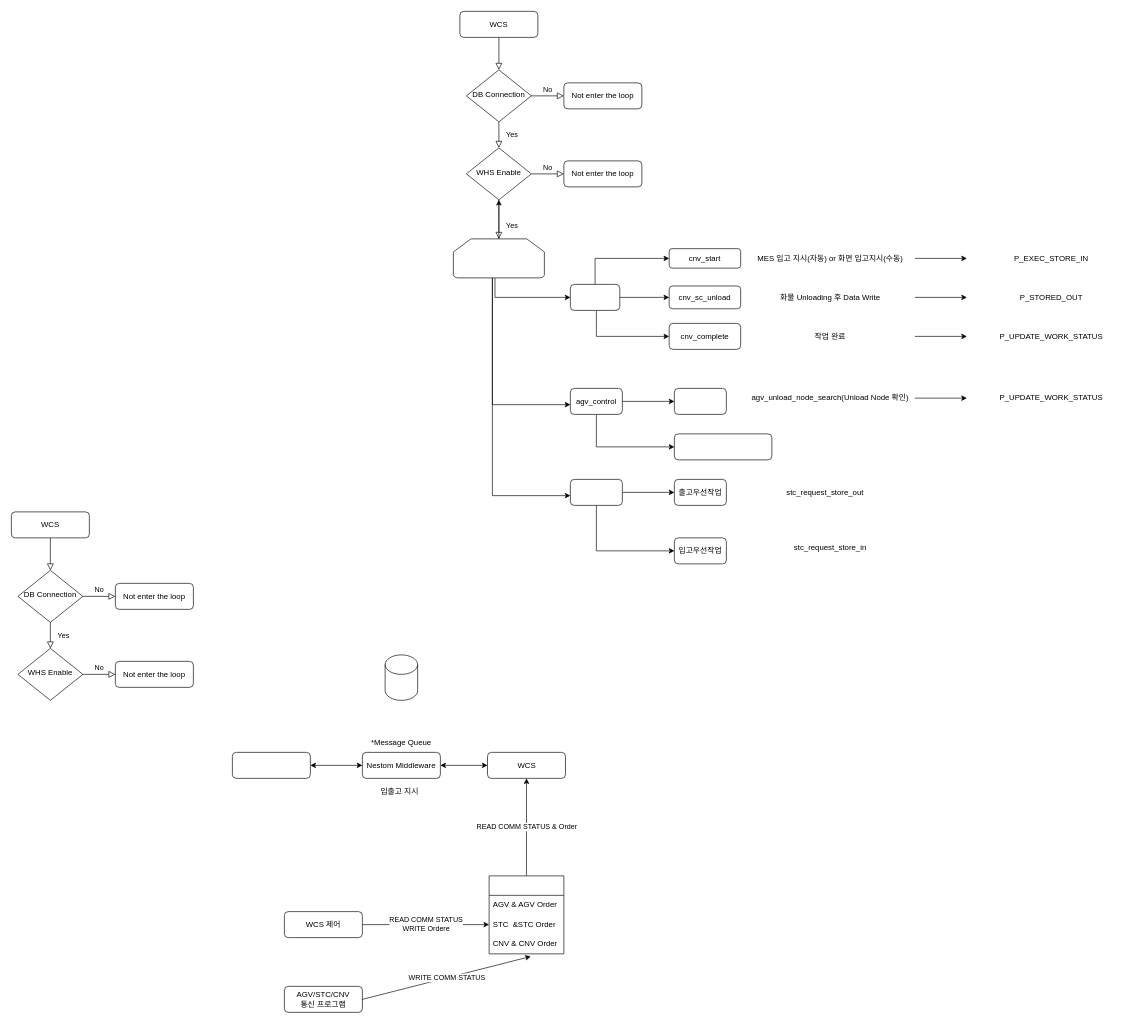
The diagram is 1147 pixels wide and 1024 high, and some of its shapes have lost their labels. The shapes that lost their labels are listed below. From the top down, each one's box as (x1, y1, x2, y2) in pixels, then its label:
(453, 238, 544, 278): i=1 ; i<= u_max_whs;i++
(570, 284, 620, 310): cnv_control
(674, 388, 726, 414): agv_load
(674, 433, 772, 460): agv_unload_node_search
(570, 479, 622, 505): stc_control
(384, 654, 418, 700): DB
(232, 752, 310, 778): MES
(488, 875, 564, 954): Shmem
